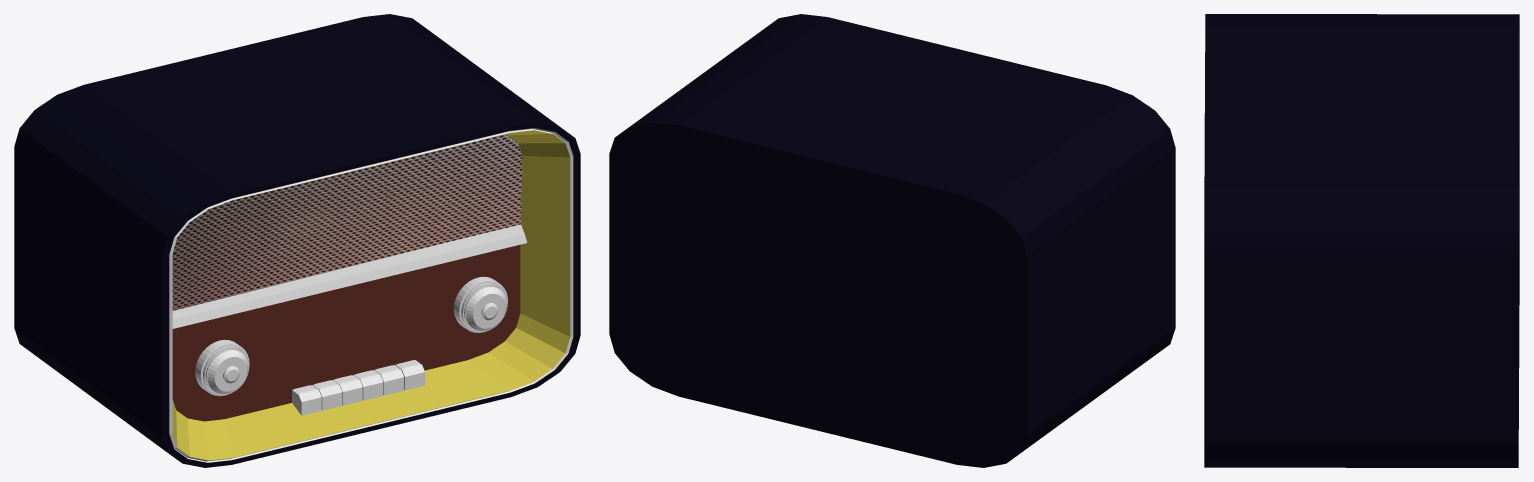
Rendered from rádio.dae.
3 views of the same model, side by side, from view 1: azimuth 30°, elevation 25°; view 2: azimuth 150°, elevation 25°; view 3: azimuth 270°, elevation 25° (orthographic). The views are drawn at different scales.
Visible parts, largest first — view 1: Cylinder; view 2: Cylinder; view 3: Cylinder.
Part boxes in pixels (box(x1,y1,x2,y2)): Cylinder: box(14, 14, 580, 467); Cylinder: box(609, 14, 1175, 467); Cylinder: box(1204, 14, 1519, 467).
Size of the model in its own units: 3.33 by 2.05 by 2.06.
Materials: 9 (1 with a texture image).
